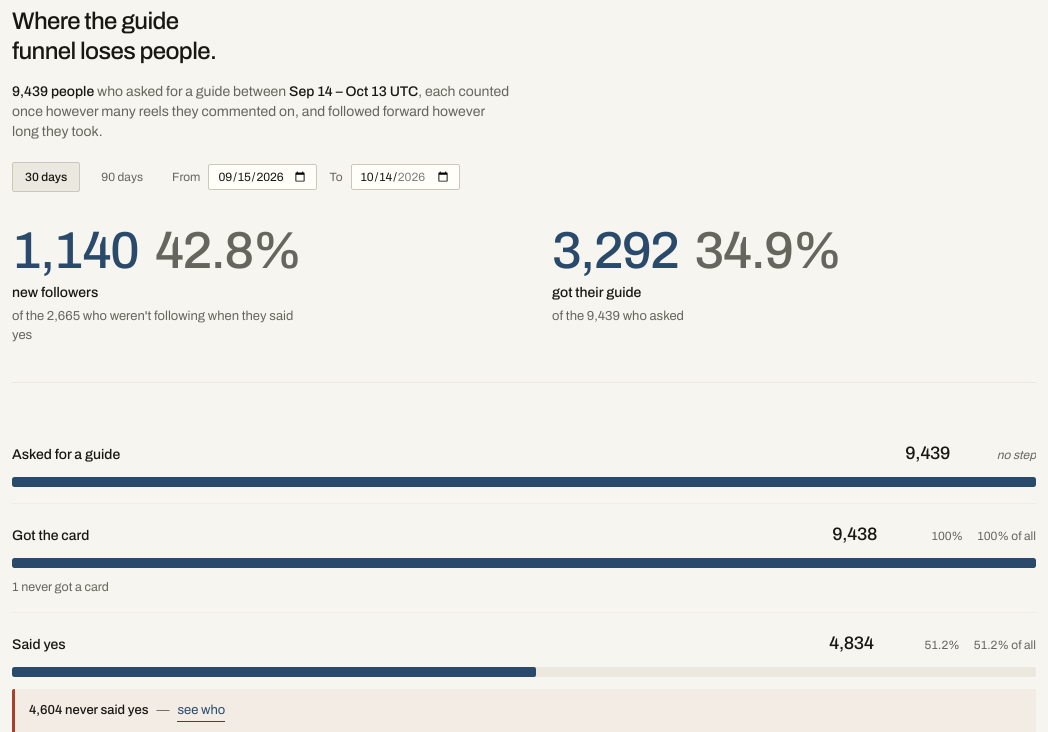
Test: Funnels guide journey › names the people behind a leak when asked
This screenshot has width=1048, height=732.
Click the button "see who". click: (201, 712)
box: left=178, top=701, right=225, bottom=722
(page scrolled)
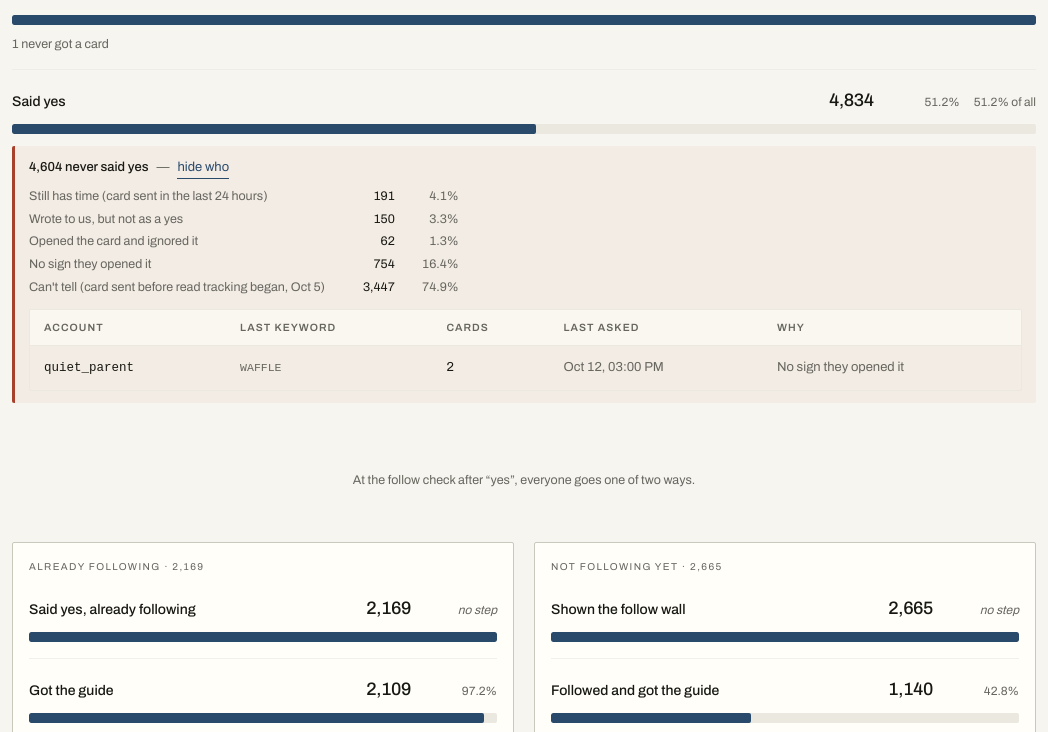
Expected: the text "quiet_parent" is shown, left=30, top=346, right=226, bottom=390
Expected: the text "WAFFLE" is shown, left=226, top=346, right=432, bottom=390
